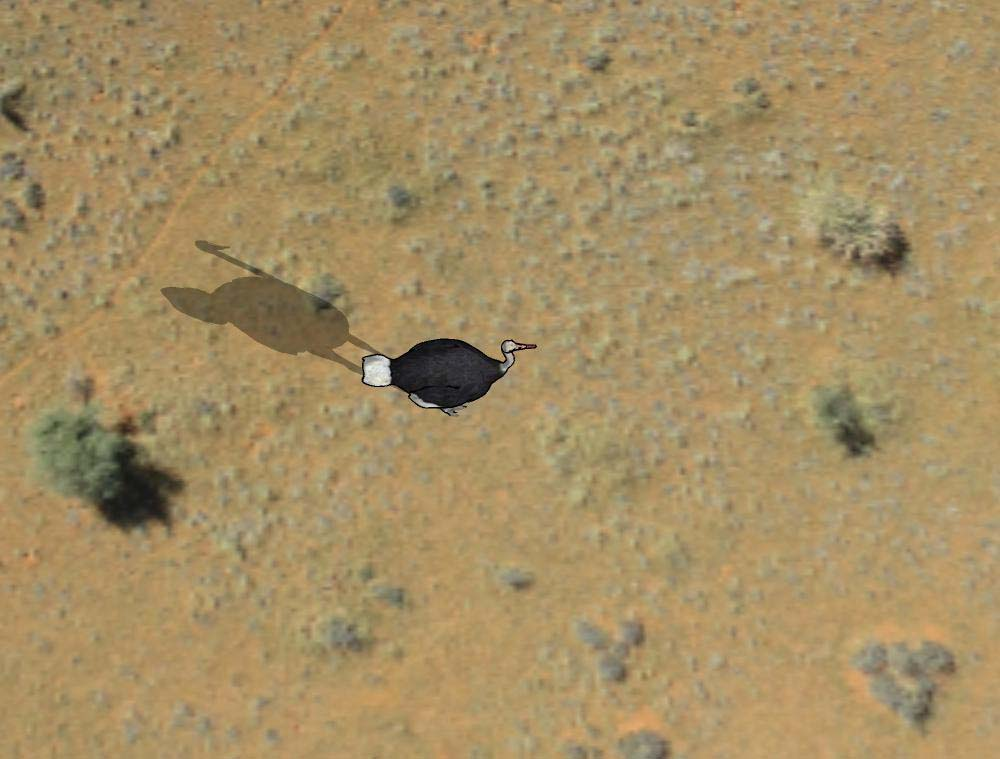springbok: (356, 320, 543, 428)
